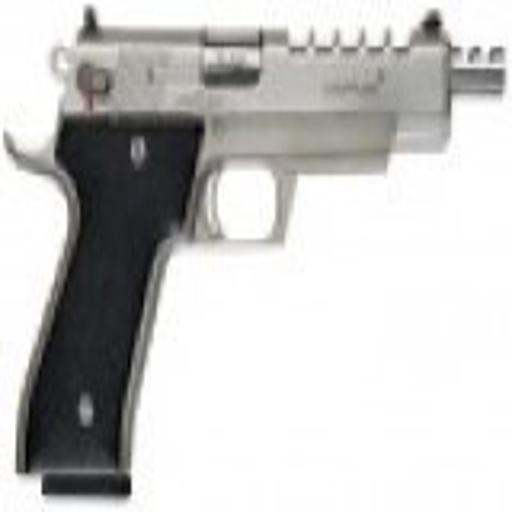Handgun: (5, 11, 504, 498)
